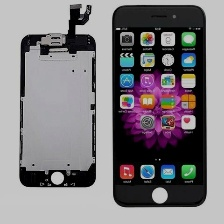phone: (109, 2, 209, 210), (17, 31, 99, 191)
